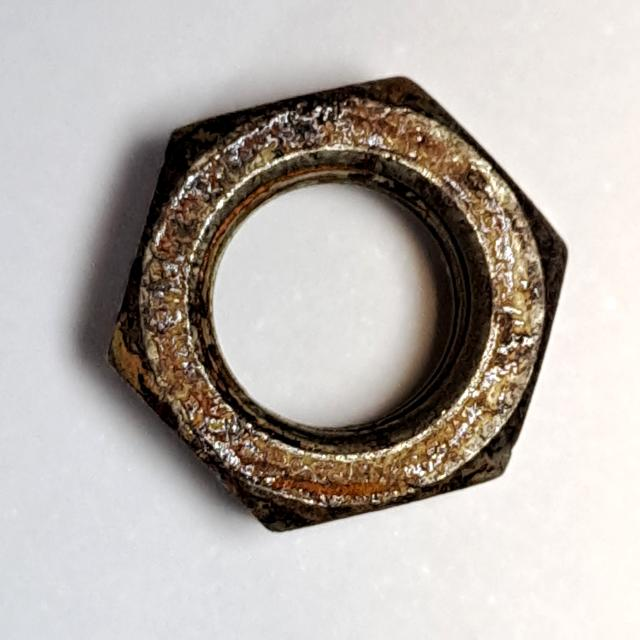Rust: (102, 68, 575, 540)
